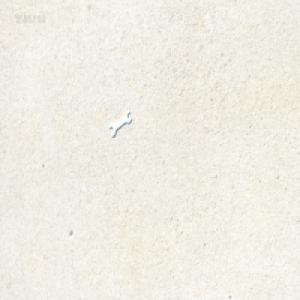Wrench: (108, 109, 131, 137)
